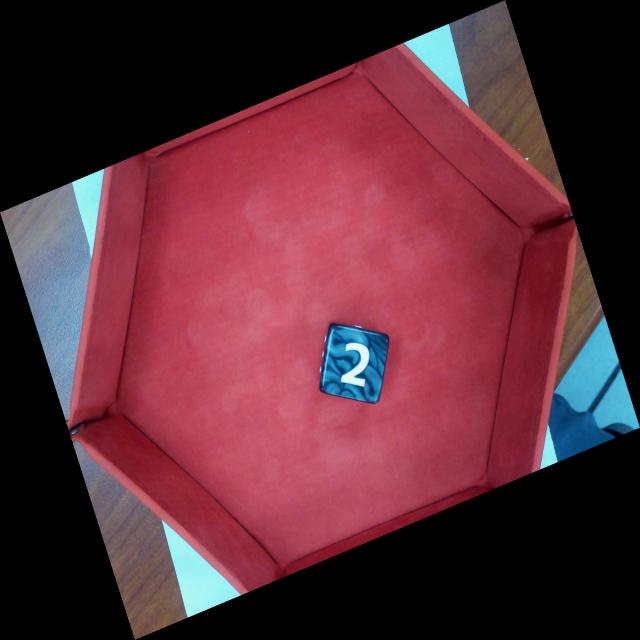dice: (316, 321, 394, 407)
